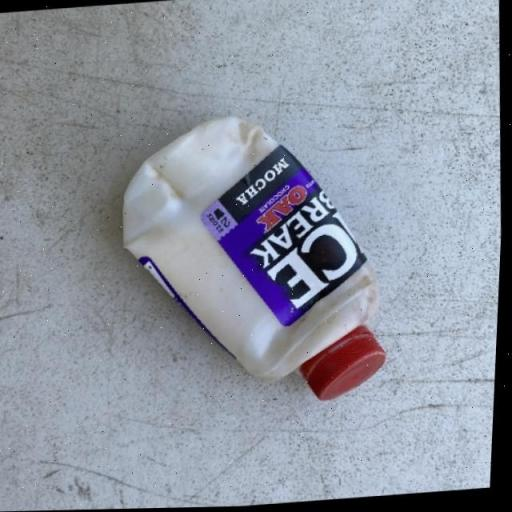plastic: (111, 104, 401, 416)
